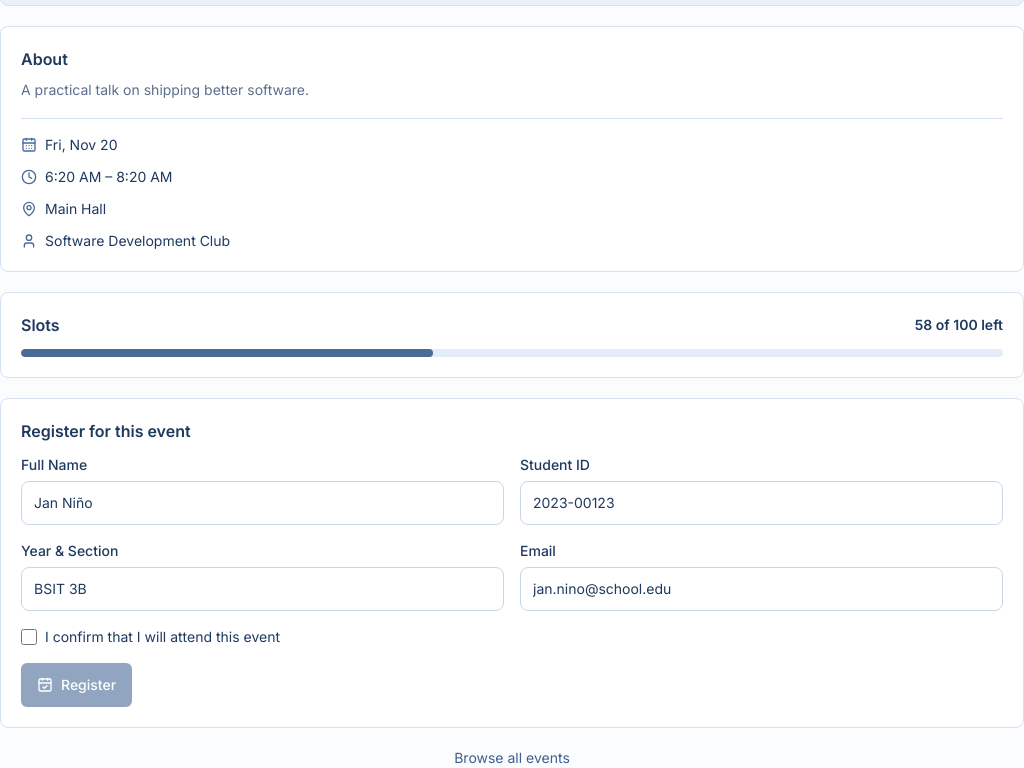
EventDetails registration › prefills the form, requires the confirmation, and registers
(page scrolled)
Expected: the field labelled "Full Name" holds "Jan Niño", 21,481 -> 504,525
Expected: the field labelled "Student ID" holds "2023-00123", 520,481 -> 1003,525
Click the checkbox labelled "I confirm that I will attend this event": (29, 637) 21,629 -> 37,645
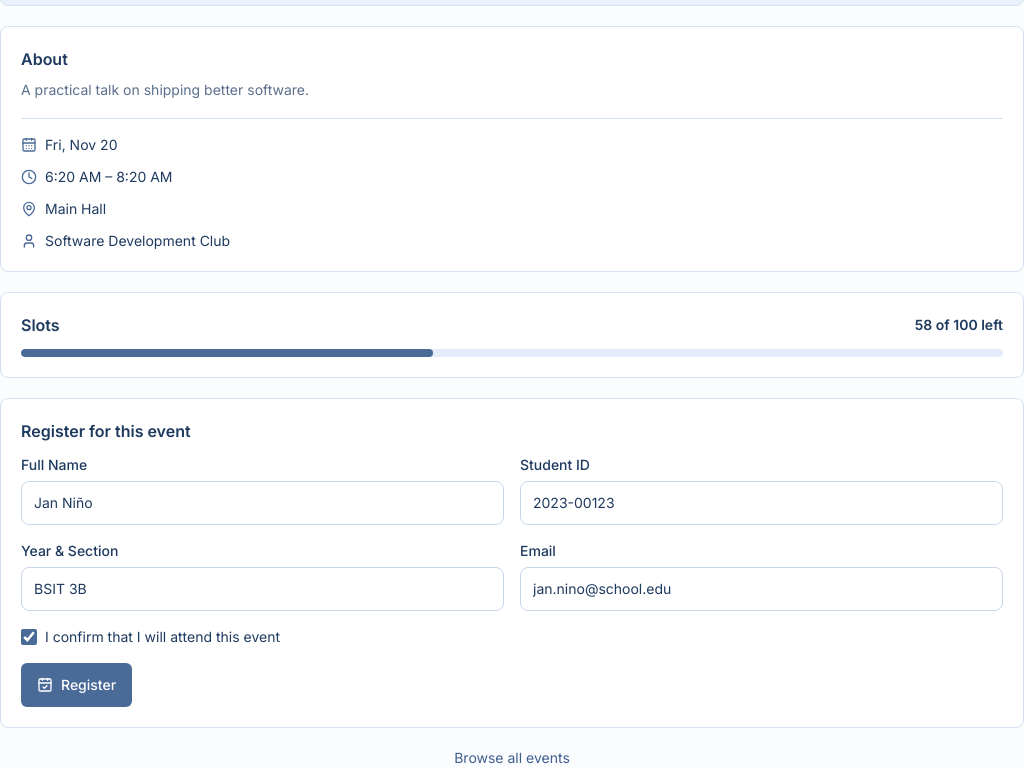
Result: the button "Register" is enabled
Click the button "Register": (77, 685) 21,663 -> 132,707
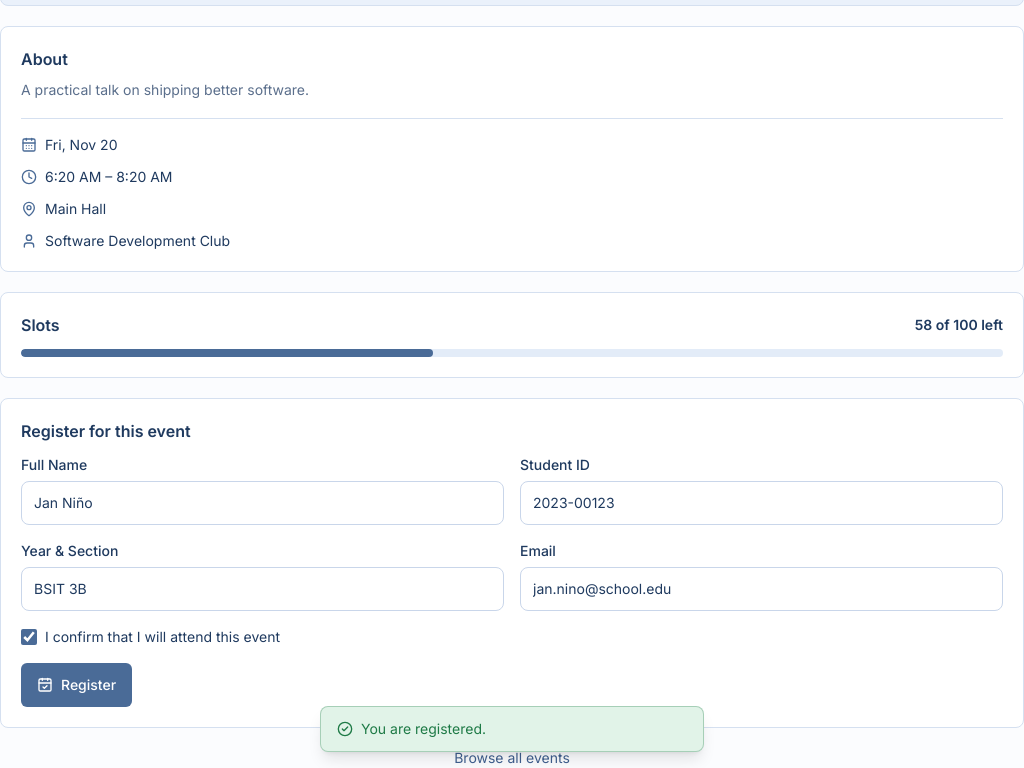
Result: the text "You are registered." is shown at 361,719 -> 486,739
